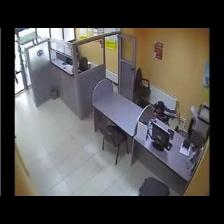person: (154, 101, 169, 125)
